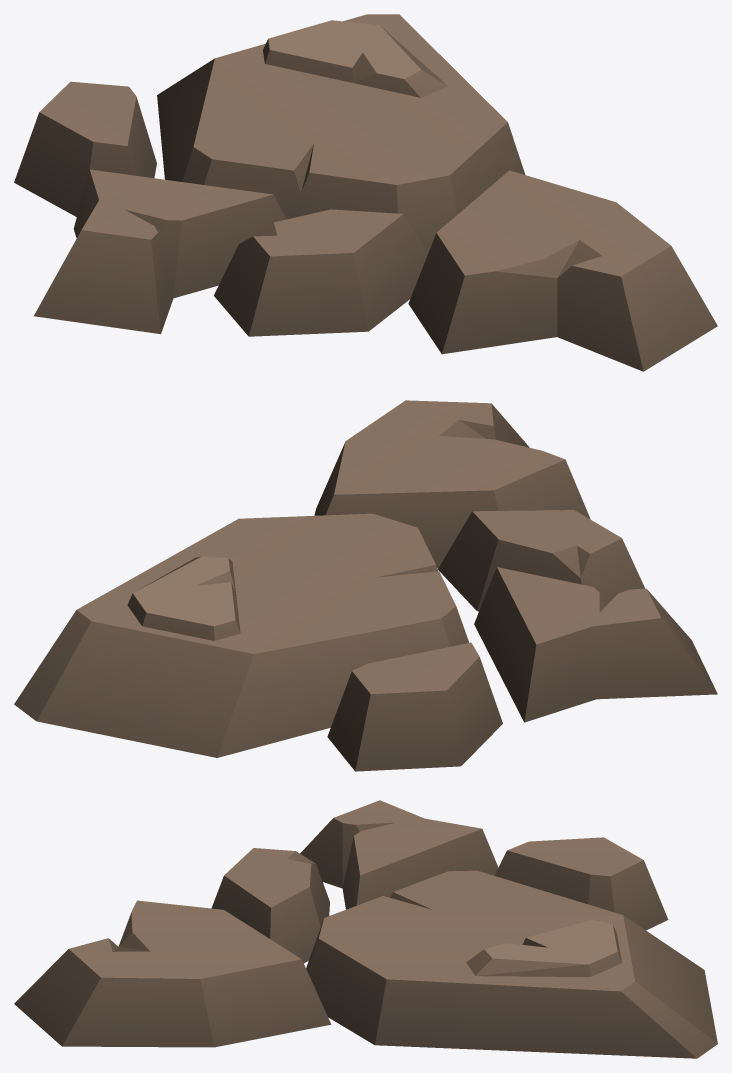
The model's file is Rock_Cluster_3A.fbx.
The picture shows the model from 3 angles, top to bottom: view 1: azimuth 30°, elevation 25°; view 2: azimuth 150°, elevation 25°; view 3: azimuth 270°, elevation 25°; orthographic projection. The views are drawn at different scales.
Parts seen in each view (by area): view 1: Rock_Cluster_3A; view 2: Rock_Cluster_3A; view 3: Rock_Cluster_3A.
Boxes of the visible parts, left/top/right/bottom form: Rock_Cluster_3A: left=14, top=14, right=717, bottom=371; Rock_Cluster_3A: left=14, top=400, right=717, bottom=771; Rock_Cluster_3A: left=14, top=800, right=717, bottom=1058.
Size of the model in its own units: 1.2 by 0.1773 by 1.62.
